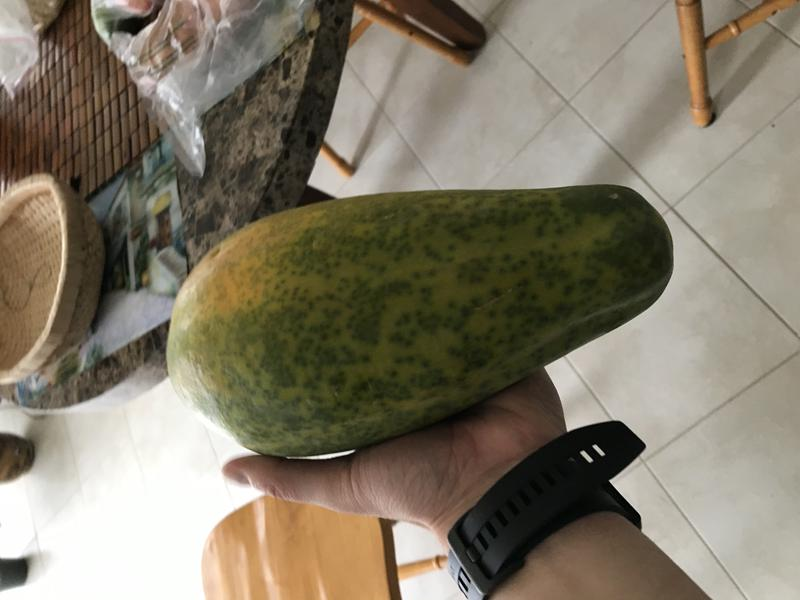papaya: (158, 172, 686, 469)
